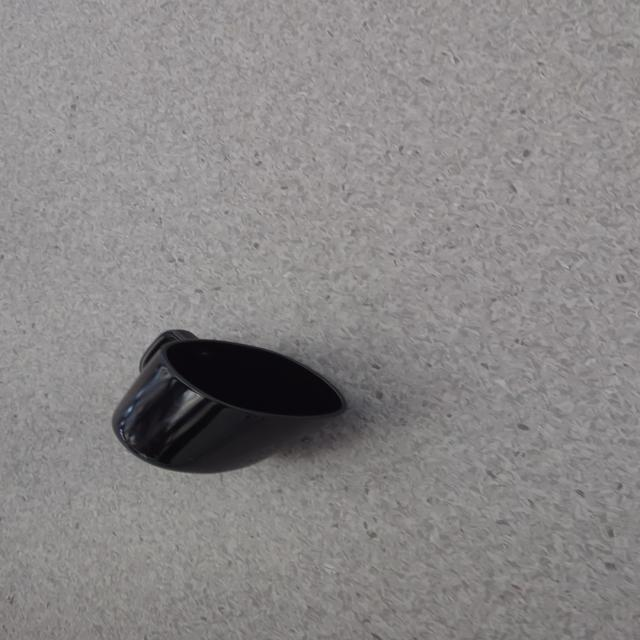mug: (110, 328, 347, 474)
